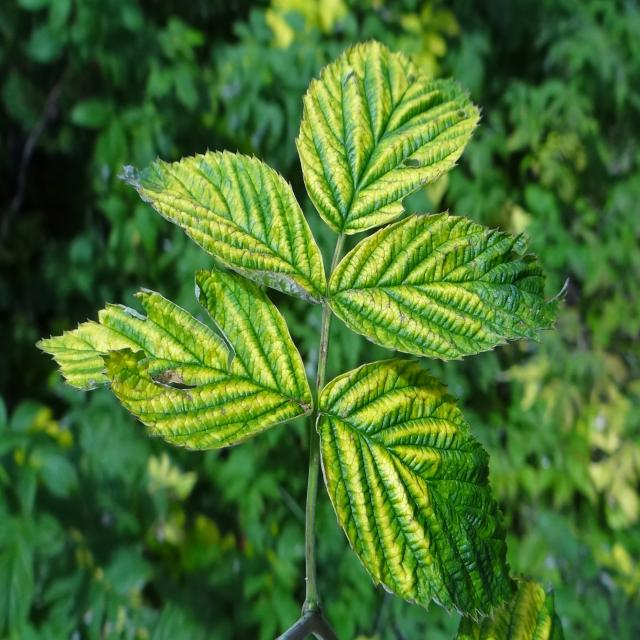Chlorosis: (25, 47, 521, 586)
